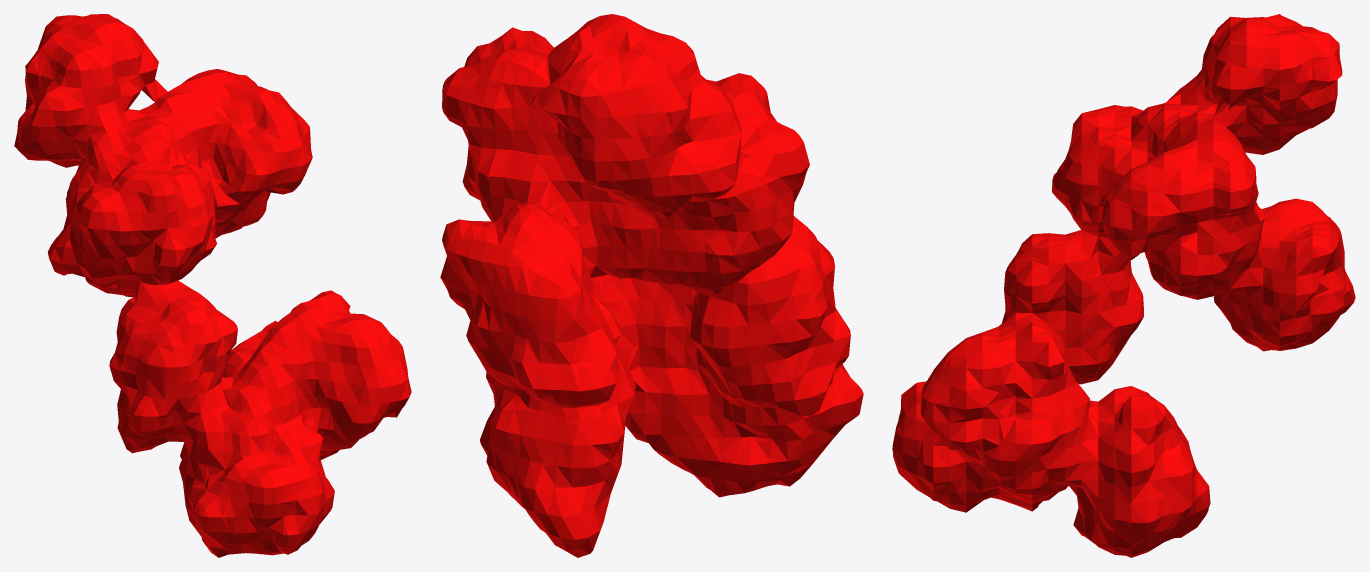
The model's file is sufB_coarse.dae.
The picture shows the model from 3 angles, left to right: view 1: azimuth 30°, elevation 25°; view 2: azimuth 150°, elevation 25°; view 3: azimuth 270°, elevation 25°; orthographic projection. The views are drawn at different scales.
Parts seen in each view (by area): view 1: sufB; view 2: sufB; view 3: sufB.
Boxes of the visible parts, box(x1,y1,x2,y2) form: sufB: box(14, 14, 411, 557); sufB: box(440, 14, 863, 557); sufB: box(892, 14, 1355, 557).
Size of the model in its own units: 102 by 172 by 150.
